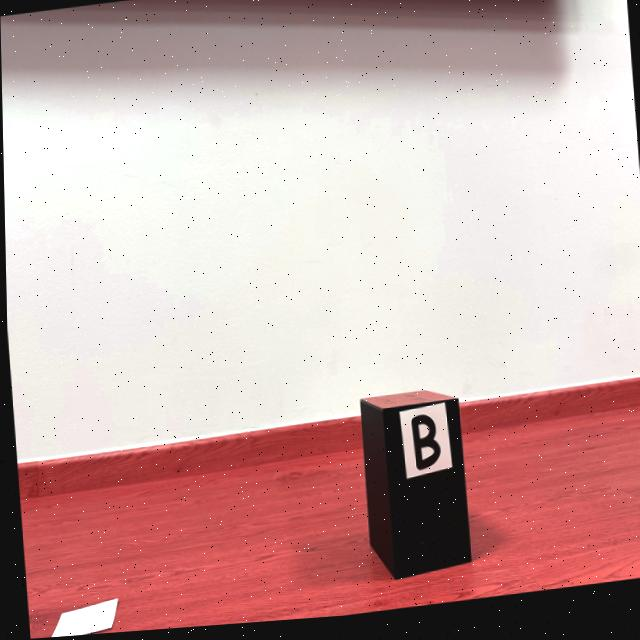B: (410, 421, 439, 477)
